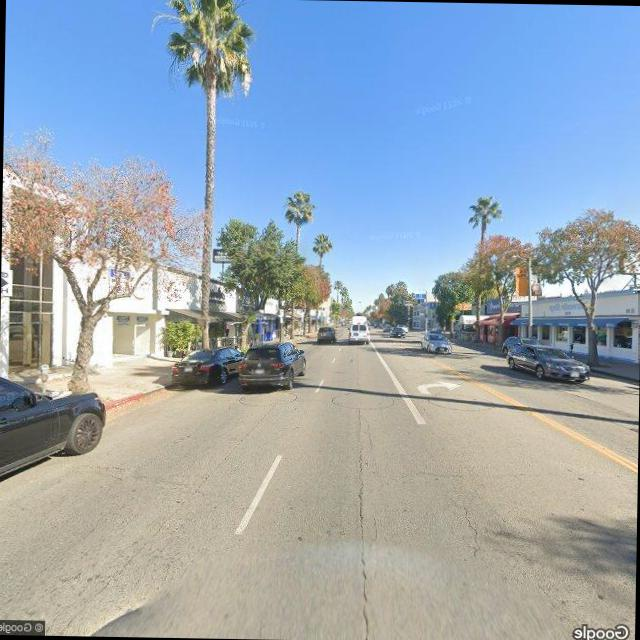crack: (352, 412, 378, 637), (459, 498, 485, 560)
